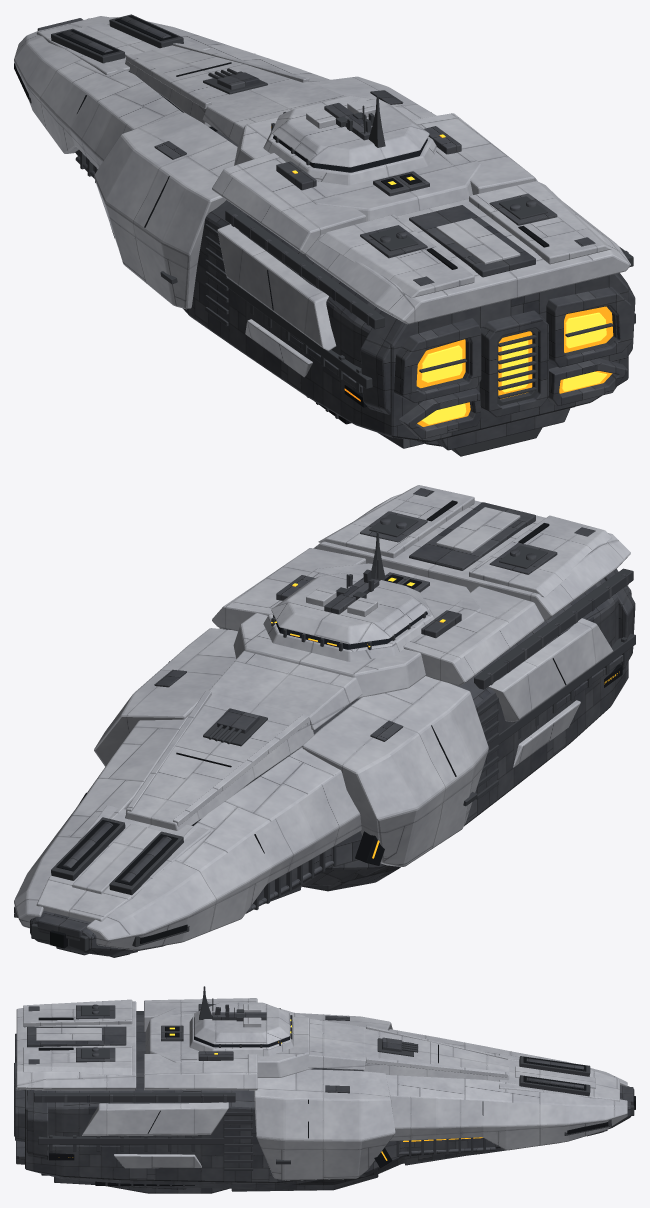
The model's file is claudecode_dreadnought.glb.
3 views of the same model, one above another, from view 1: azimuth 30°, elevation 25°; view 2: azimuth 150°, elevation 25°; view 3: azimuth 270°, elevation 25° (orthographic). The views are drawn at different scales.
Visible parts, largest first — view 1: Chassis_MainCoreHull, Armor_MidshipFlankShield_Port, Armor_BowCheekWing_Port, Armor_SternDorsalCanopyBase, Armor_MidAftDorsalShoulder_Port, Bridge_Tier1_Platform, Armor_AftUpperFlankSlab_Port, Bridge_Tier3_RoofCrown, Armor_SternDorsalWing_Port, Armor_FwdDorsalSpineRamp, Armor_SternDorsalWing_Stbd, Thruster_Upper_Port_HollowShroud (+34 smaller); view 2: Armor_BowCheekWing_Port, Armor_MidshipFlankShield_Port, Chassis_MainCoreHull, Armor_FwdDorsalSpineRamp, Armor_BowCheekWing_Stbd, Bridge_Tier1_Platform, Armor_MidAftDorsalShoulder_Port, Bridge_ForwardGlacisDeck, Armor_MidshipFlankShield_Stbd, Armor_SternDorsalCanopyBase, Bridge_Tier3_RoofCrown, Armor_AftUpperFlankSlab_Port (+22 smaller); view 3: Chassis_MainCoreHull, Armor_MidshipFlankShield_Stbd, Armor_BowCheekWing_Stbd, Armor_AftUpperFlankSlab_Stbd, Armor_MidAftDorsalShoulder_Stbd, Bridge_Tier1_Platform, Armor_FwdDorsalSpineRamp, Armor_SternDorsalCanopyBase, Bridge_Tier3_RoofCrown, Bridge_ForwardGlacisDeck, Armor_SternDorsalWing_Stbd, Trench_AftUpperBeam_Stbd (+26 smaller).
Part boxes in pixels (x1=…): Chassis_MainCoreHull: x1=75, y1=131, x2=628, y2=441; Armor_MidshipFlankShield_Port: x1=94, y1=112, x2=237, y2=309; Armor_BowCheekWing_Port: x1=14, y1=30, x2=182, y2=168; Armor_SternDorsalCanopyBase: x1=305, y1=198, x2=630, y2=324; Armor_MidAftDorsalShoulder_Port: x1=212, y1=153, x2=365, y2=254; Bridge_Tier1_Platform: x1=234, y1=106, x2=481, y2=221; Armor_AftUpperFlankSlab_Port: x1=217, y1=224, x2=336, y2=350; Bridge_Tier3_RoofCrown: x1=271, y1=95, x2=429, y2=167; Armor_SternDorsalWing_Port: x1=318, y1=214, x2=474, y2=297; Armor_FwdDorsalSpineRamp: x1=125, y1=45, x2=307, y2=127; Armor_SternDorsalWing_Stbd: x1=469, y1=181, x2=611, y2=264; Thruster_Upper_Port_HollowShroud: x1=394, y1=318, x2=481, y2=402; Armor_BowCheekWing_Port: x1=86, y1=747, x2=361, y2=950; Armor_MidshipFlankShield_Port: x1=302, y1=676, x2=488, y2=866; Chassis_MainCoreHull: x1=30, y1=569, x2=628, y2=956; Armor_FwdDorsalSpineRamp: x1=125, y1=693, x2=313, y2=830; Armor_BowCheekWing_Stbd: x1=14, y1=716, x2=188, y2=928; Bridge_Tier1_Platform: x1=233, y1=563, x2=481, y2=698; Armor_MidAftDorsalShoulder_Port: x1=403, y1=586, x2=544, y2=685; Bridge_ForwardGlacisDeck: x1=209, y1=651, x2=362, y2=729; Armor_MidshipFlankShield_Stbd: x1=94, y1=628, x2=237, y2=766; Armor_SternDorsalCanopyBase: x1=313, y1=494, x2=630, y2=620; Bridge_Tier3_RoofCrown: x1=271, y1=572, x2=429, y2=644; Armor_AftUpperFlankSlab_Port: x1=488, y1=618, x2=613, y2=721; Chassis_MainCoreHull: x1=25, y1=1014, x2=631, y2=1190; Armor_MidshipFlankShield_Stbd: x1=254, y1=1069, x2=395, y2=1180; Armor_BowCheekWing_Stbd: x1=386, y1=1074, x2=627, y2=1150; Armor_AftUpperFlankSlab_Stbd: x1=82, y1=1102, x2=228, y2=1135; Armor_MidAftDorsalShoulder_Stbd: x1=144, y1=1054, x2=257, y2=1090; Bridge_Tier1_Platform: x1=145, y1=1008, x2=313, y2=1077; Armor_FwdDorsalSpineRamp: x1=363, y1=1027, x2=509, y2=1081; Armor_SternDorsalCanopyBase: x1=16, y1=1001, x2=136, y2=1090; Bridge_Tier3_RoofCrown: x1=194, y1=1002, x2=289, y2=1044; Bridge_ForwardGlacisDeck: x1=308, y1=1018, x2=365, y2=1069; Armor_SternDorsalWing_Stbd: x1=23, y1=1045, x2=132, y2=1075; Trench_AftUpperBeam_Stbd: x1=34, y1=1092, x2=235, y2=1102.
Bounding box in the file's own units: 9.41 × 8.01 × 24.08.
Materials: 11 (4 with a texture image).
